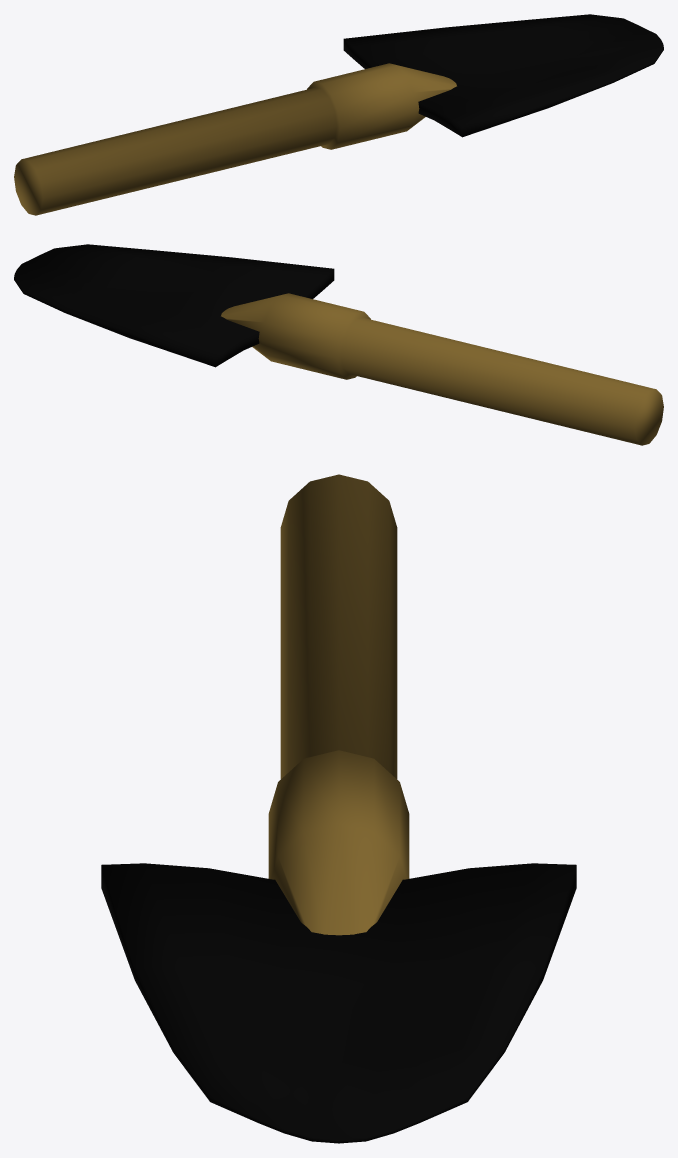
File: tool4.fbx
3 renders of one model, top to bottom at view 1: azimuth 30°, elevation 25°; view 2: azimuth 150°, elevation 25°; view 3: azimuth 270°, elevation 25°, orthographic. The views are drawn at different scales.
Visible parts, largest first — view 1: Mini_shovel_Circle; view 2: Mini_shovel_Circle; view 3: Mini_shovel_Circle.
Boxes of the visible parts, x1,y1,x2,y2 form: Mini_shovel_Circle: [14, 14, 663, 215]; Mini_shovel_Circle: [14, 244, 663, 445]; Mini_shovel_Circle: [101, 474, 576, 1143].
Size of the model in its own units: 1496 by 145 by 490.
